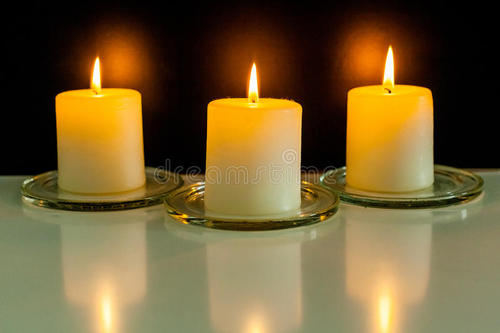Fire: (378, 44, 402, 93), (84, 53, 108, 95), (243, 61, 265, 105)
